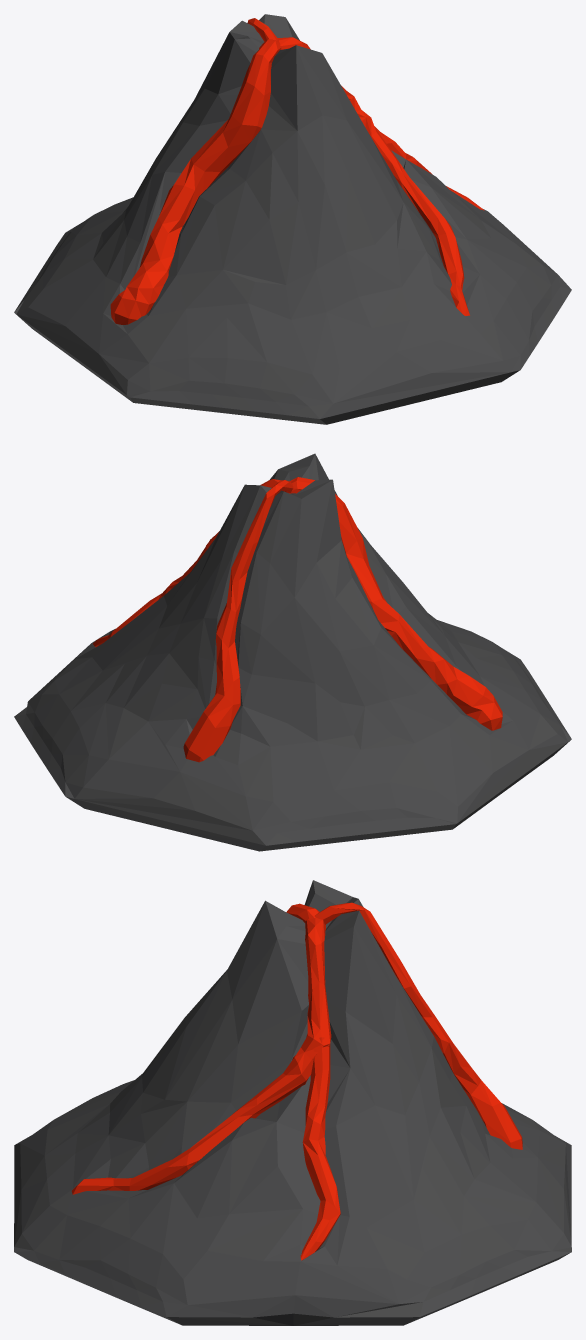
File: Volcano.fbx
3 views of the same model, one above another, from view 1: azimuth 30°, elevation 25°; view 2: azimuth 150°, elevation 25°; view 3: azimuth 270°, elevation 25° (orthographic). The views are drawn at different scales.
Parts seen in each view (by area): view 1: Volcano, Lava 3, Lava; view 2: Volcano, Lava 3, Lava 2, Lava 1; view 3: Volcano, Lava, Lava 2, Lava 1.
Boxes of the visible parts, x1=… form: Volcano: x1=14, y1=14, x2=571, y2=424; Lava 3: x1=110, y1=39, x2=281, y2=324; Lava: x1=277, y1=37, x2=469, y2=315; Volcano: x1=14, y1=453, x2=571, y2=851; Lava 3: x1=289, y1=477, x2=502, y2=730; Lava 2: x1=183, y1=480, x2=293, y2=762; Lava 1: x1=93, y1=539, x2=211, y2=646; Volcano: x1=14, y1=880, x2=571, y2=1325; Lava: x1=71, y1=917, x2=331, y2=1194; Lava 2: x1=314, y1=902, x2=522, y2=1149; Lava 1: x1=300, y1=1037, x2=340, y2=1260.
Size of the model in its own units: 3004 by 1821 by 2993.
